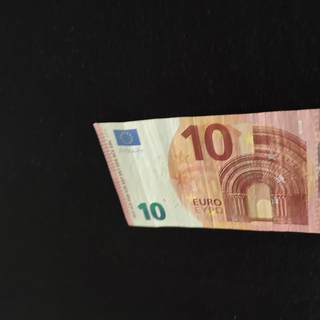10EUROFront: (92, 105, 320, 234)
